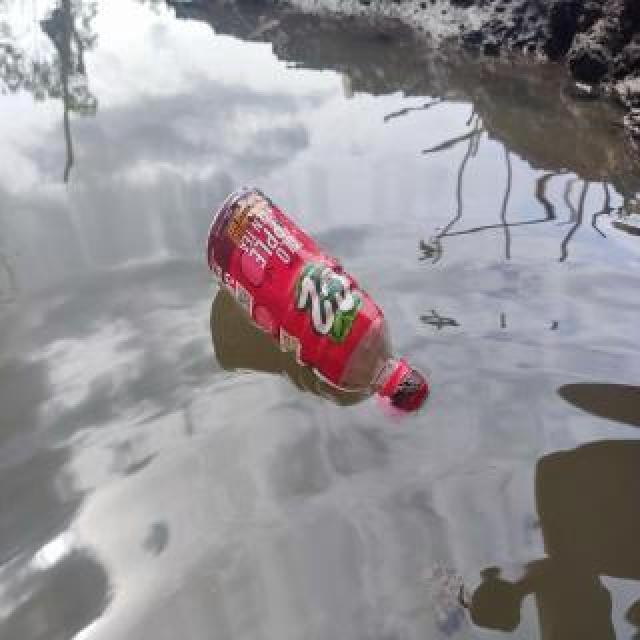plastic: (201, 180, 434, 411)
vinyl: (203, 192, 385, 391)
